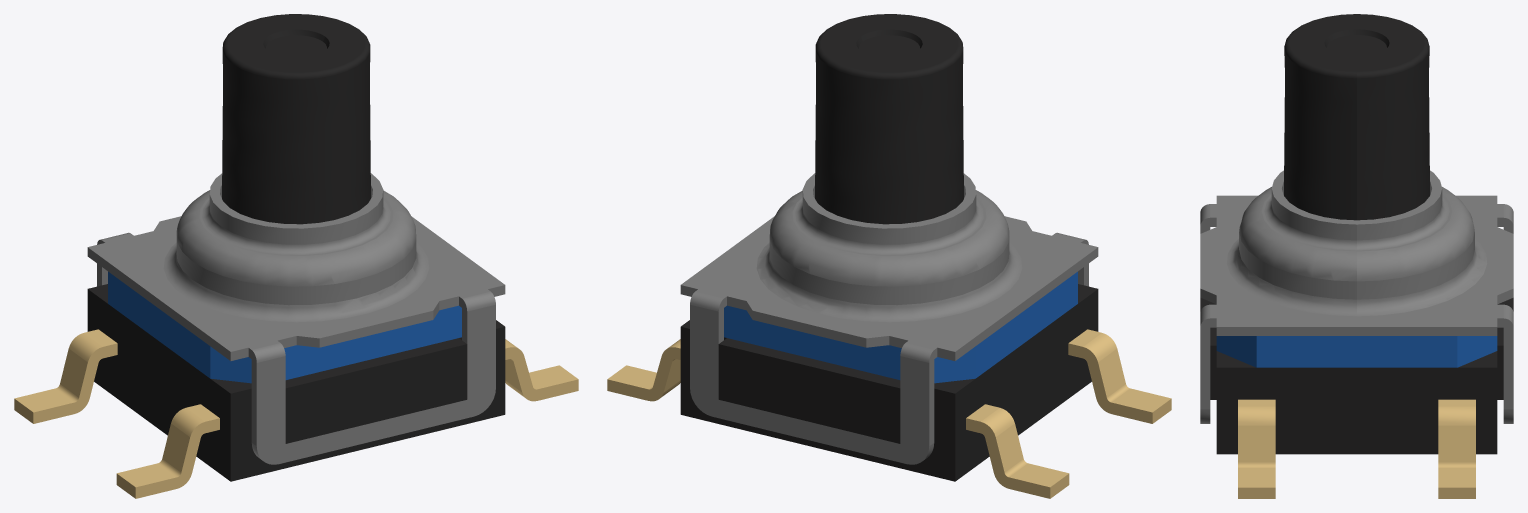
File: kc-sw_push_1p1t_no_ck_ksc6xxg.glb
3 renders of one model, left to right at view 1: azimuth 30°, elevation 25°; view 2: azimuth 150°, elevation 25°; view 3: azimuth 270°, elevation 25°, orthographic.
Parts seen in each view (by area): view 1: 0_0_0_0, 0.25_0.25_0.25_0, 0.75_0.5_0.25_0.9, 0_0.16666666666666666_0.5_0; view 2: 0_0_0_0, 0.25_0.25_0.25_0, 0.75_0.5_0.25_0.9, 0_0.16666666666666666_0.5_0; view 3: 0_0_0_0, 0.25_0.25_0.25_0, 0_0.16666666666666666_0.5_0, 0.75_0.5_0.25_0.9.
Part boxes in pixels (x1=…): 0_0_0_0: x1=87, y1=14, x2=505, y2=481; 0.25_0.25_0.25_0: x1=87, y1=173, x2=505, y2=464; 0.75_0.5_0.25_0.9: x1=14, y1=329, x2=578, y2=498; 0_0.16666666666666666_0.5_0: x1=108, y1=271, x2=461, y2=383; 0_0_0_0: x1=680, y1=14, x2=1098, y2=481; 0.25_0.25_0.25_0: x1=680, y1=173, x2=1098, y2=464; 0.75_0.5_0.25_0.9: x1=607, y1=329, x2=1171, y2=498; 0_0.16666666666666666_0.5_0: x1=724, y1=271, x2=1077, y2=383; 0_0_0_0: x1=1200, y1=14, x2=1513, y2=454; 0.25_0.25_0.25_0: x1=1200, y1=170, x2=1513, y2=423; 0_0.16666666666666666_0.5_0: x1=1216, y1=336, x2=1497, y2=367; 0.75_0.5_0.25_0.9: x1=1238, y1=399, x2=1475, y2=498.
Bounding box in the file's own units: 1 × 0.77 × 0.625.
